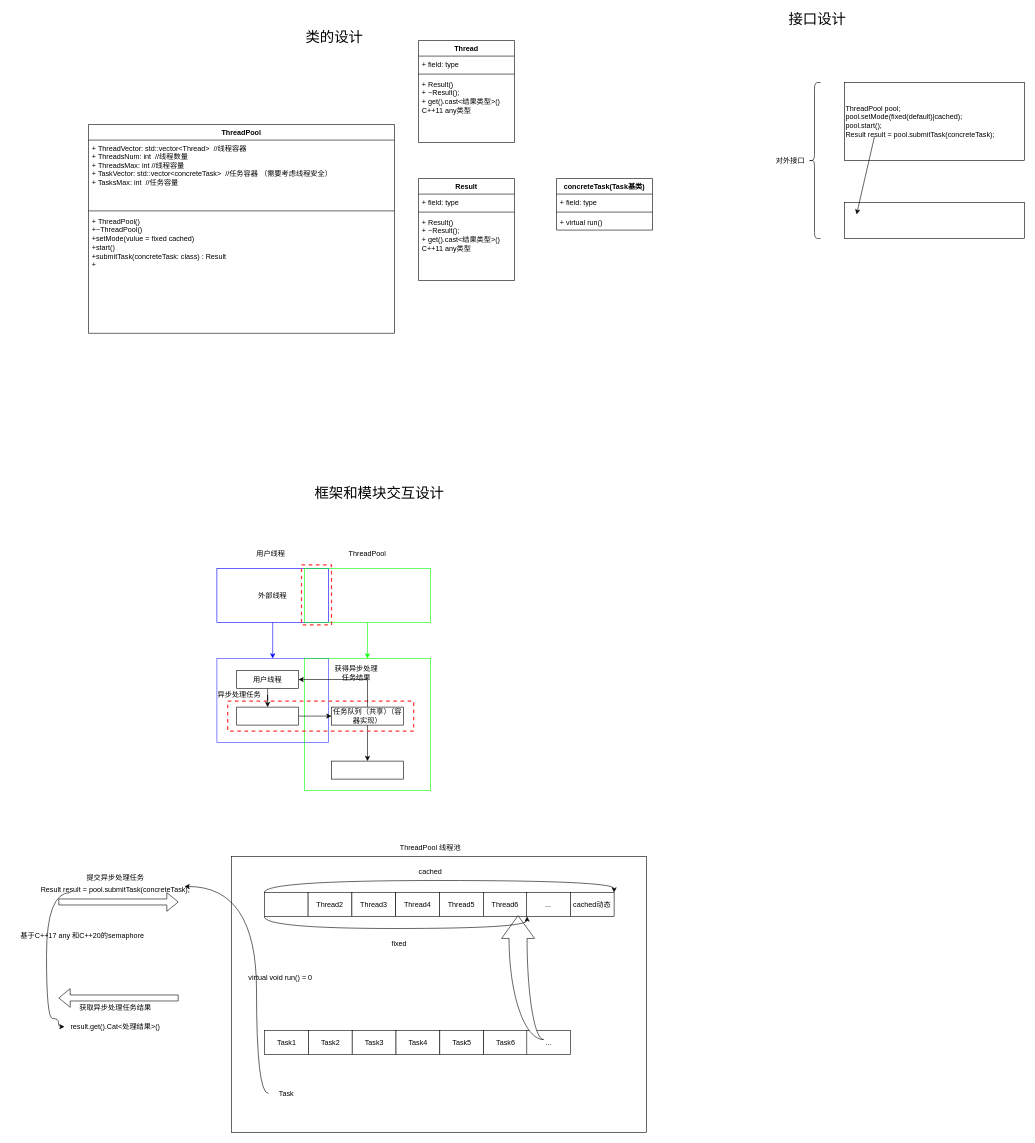
Image size: 1035x1143. Some labels were removed from this diagram. Each missing label, with the centre of its shape:
mutex,condition_variable: pixel 522 977
result.get().Cast<结果类型>(): pixel 934 220
Thread1: pixel 286 904
产生任务: pixel 267 715
生产者-消费者关系: pixel 316 594
线程池: pixel 367 595
线程队列（容器实现）: pixel 367 769
